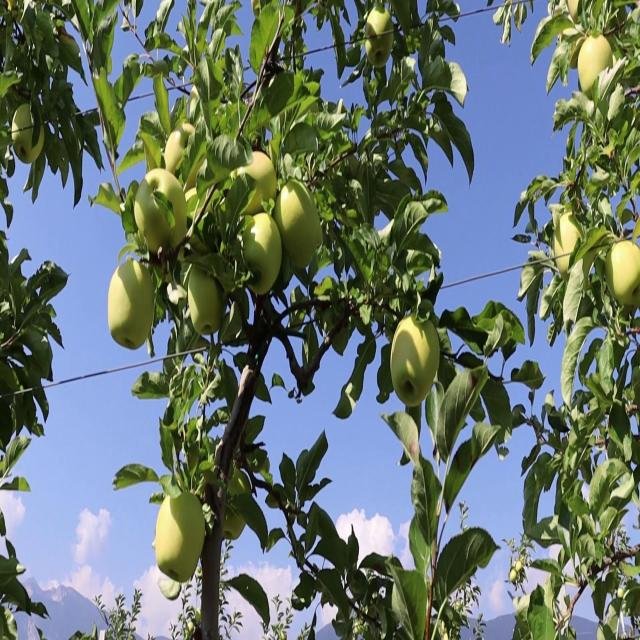apple: (153, 495, 209, 586), (106, 258, 156, 356), (393, 308, 442, 406), (132, 170, 188, 254), (280, 177, 324, 272), (244, 213, 283, 299), (241, 149, 280, 222), (188, 270, 227, 340), (608, 241, 640, 311), (580, 35, 613, 101), (556, 213, 581, 277), (16, 120, 47, 169), (368, 35, 395, 71), (60, 21, 80, 69), (368, 7, 392, 36)
